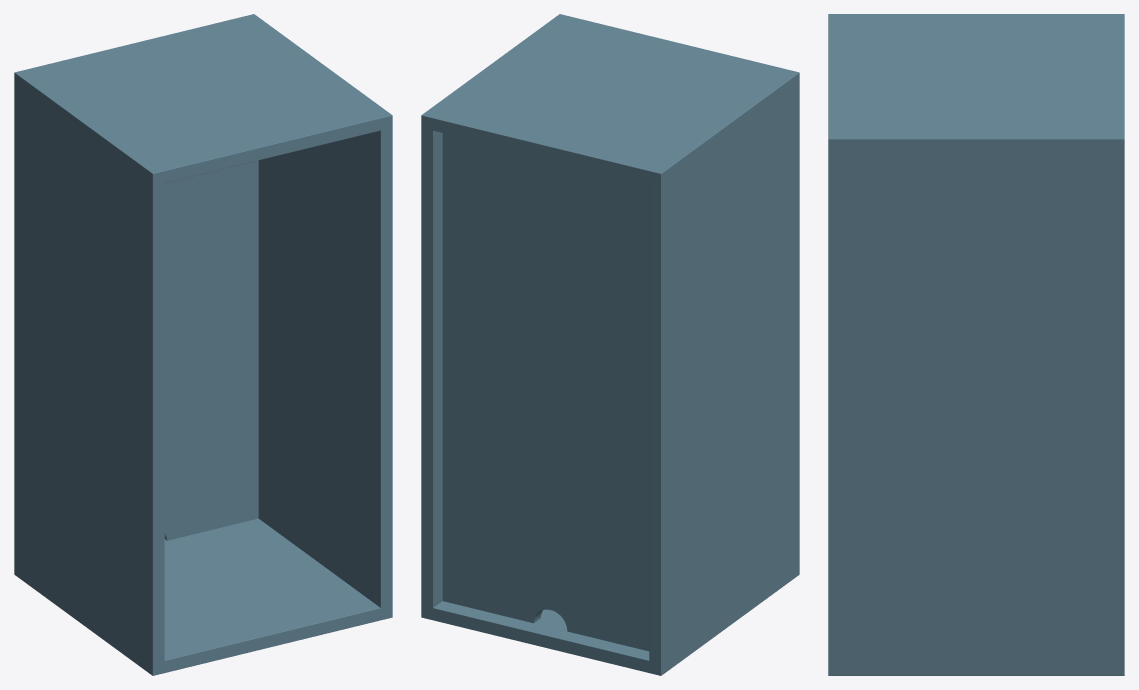
File: MOD-1X2-A-B-AP-AC.glb
3 renders of one model, left to right at view 1: azimuth 30°, elevation 25°; view 2: azimuth 150°, elevation 25°; view 3: azimuth 270°, elevation 25°, orthographic. The views are drawn at different scales.
Size of the model in its own units: 360 by 720 by 360.
